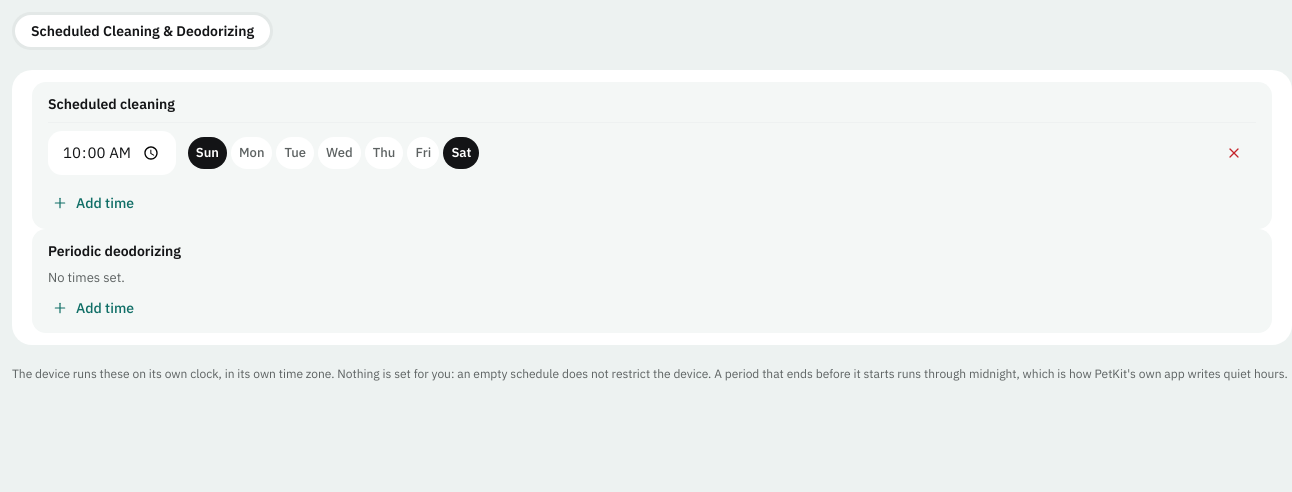
Scenario: DeviceSchedules › adds a deodorizing time without touching the cleaning entries
Click the button with aria-label "Add periodic deodorizing time": (93, 308) [48, 296, 138, 320]
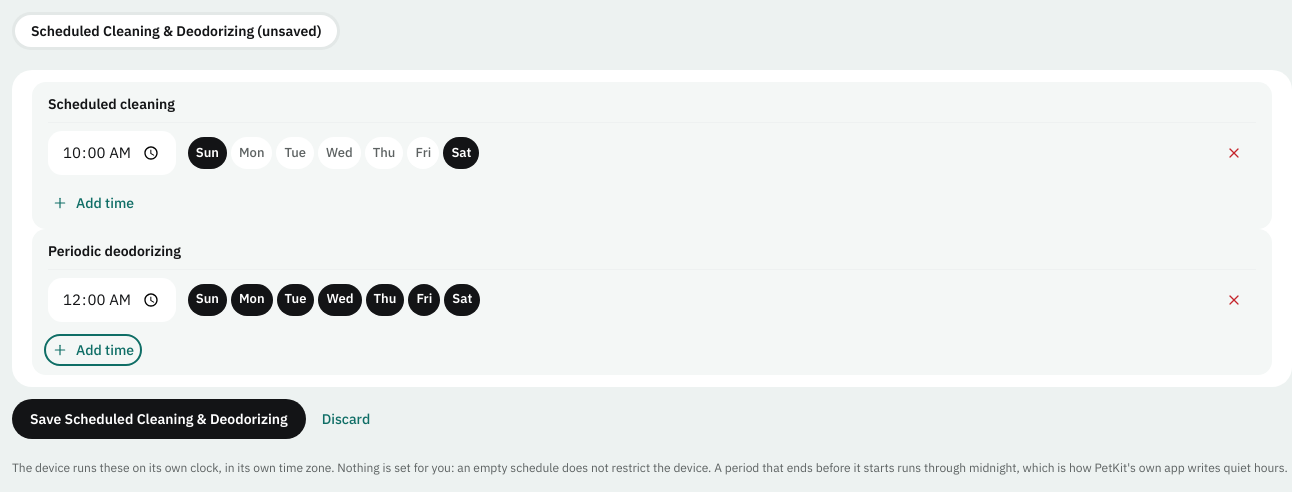
Click the button "Save Scheduled Cleaning & Deodorizing": (159, 419) [12, 399, 306, 439]
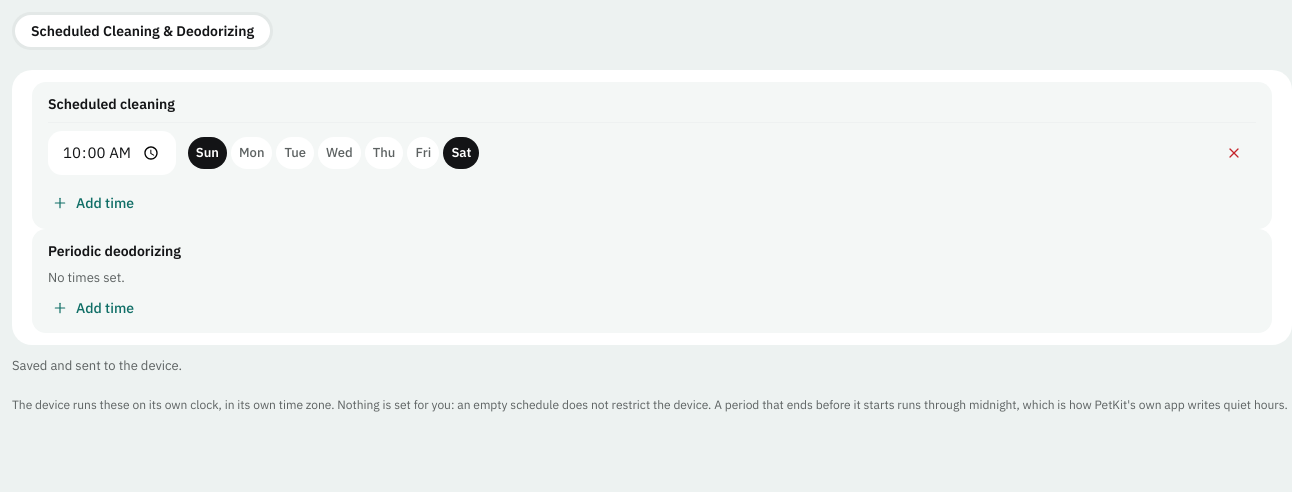
Check: the message "Saved and sent to the device." is shown, box [12, 357, 182, 374]
